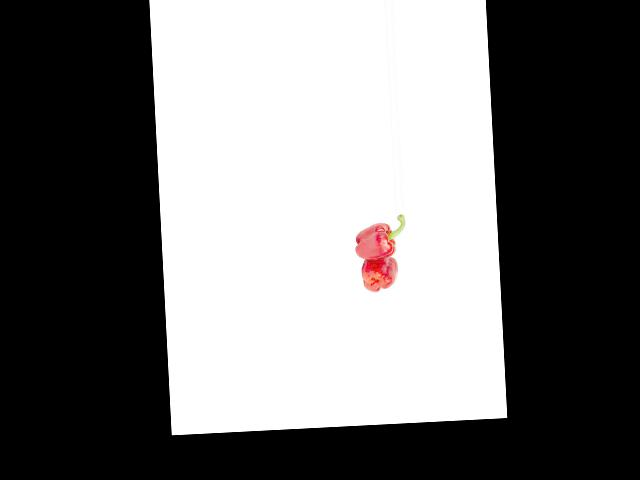bell_pepper: (358, 256, 401, 292)
